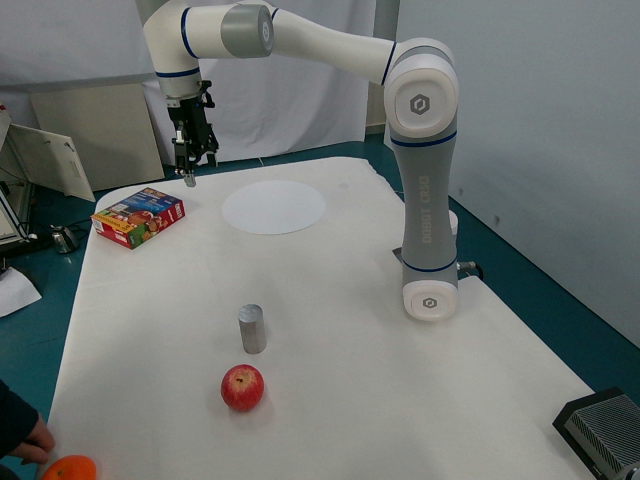apple: (216, 358, 267, 416)
metalROD: (229, 300, 280, 360)
